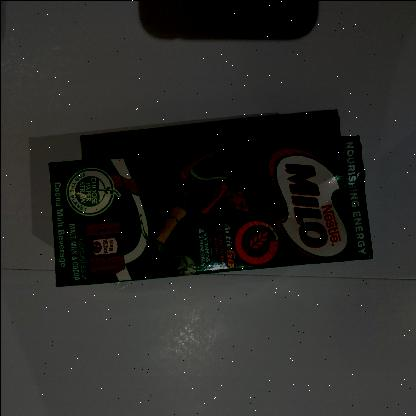Others: (48, 135, 372, 285)
